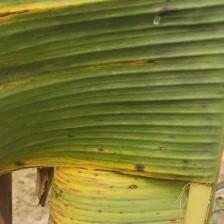pestalotiopsis: (0, 0, 224, 223)
